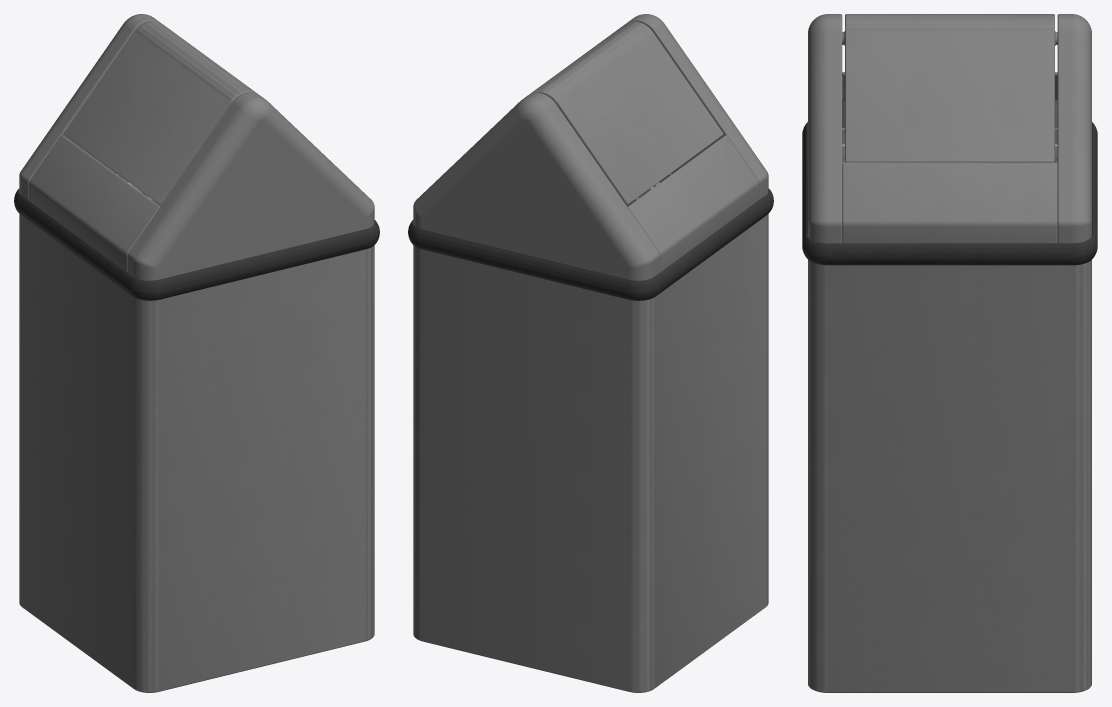
Rendered from furniture_trashBin_lid_a01.glb.
3 renders of one model, left to right at view 1: azimuth 30°, elevation 25°; view 2: azimuth 150°, elevation 25°; view 3: azimuth 270°, elevation 25°, orthographic. The views are drawn at different scales.
Parts seen in each view (by area): view 1: body_01_mesh_00, lid_02_mesh_00, lid_01_mesh_00; view 2: body_01_mesh_00, lid_02_mesh_00, lid_01_mesh_00; view 3: body_01_mesh_00, lid_02_mesh_00, lid_01_mesh_00.
Part boxes in pixels (left/top/right/bottom): body_01_mesh_00: left=19, top=173, right=374, bottom=692; lid_02_mesh_00: left=14, top=14, right=379, bottom=300; lid_01_mesh_00: left=64, top=21, right=257, bottom=204; body_01_mesh_00: left=413, top=173, right=768, bottom=692; lid_02_mesh_00: left=408, top=14, right=773, bottom=300; lid_01_mesh_00: left=530, top=21, right=723, bottom=204; body_01_mesh_00: left=808, top=127, right=1091, bottom=692; lid_02_mesh_00: left=802, top=14, right=1097, bottom=265; lid_01_mesh_00: left=842, top=14, right=1057, bottom=161.
Bounding box in the file's own units: 0.384 × 0.8483 × 0.364.
Materials: 3 (3 with a texture image).
